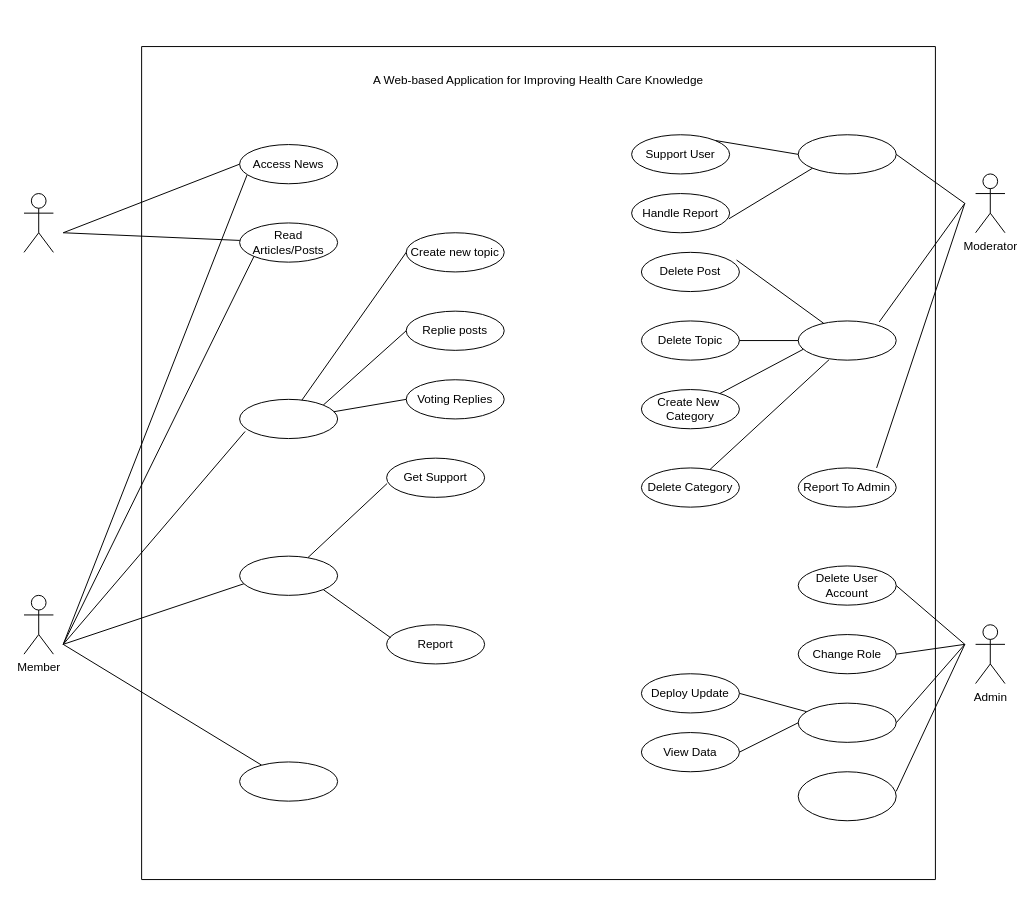
Some shapes in this 1034 by 897 pixel diagram are drawn without their labels. Here are the shapes that lost their labels. From the top down, the centre of each, then its label:
At [846,154]: "Support Chat".
At [38,222]: "Guest".
At [846,340]: "Manage Forum".
At [288,418]: "Access Forum".
At [288,575]: "Chat for Support".
At [846,722]: "System".
At [288,781]: "AI ChatBot".
At [846,796]: "Process Moderator's Report".
